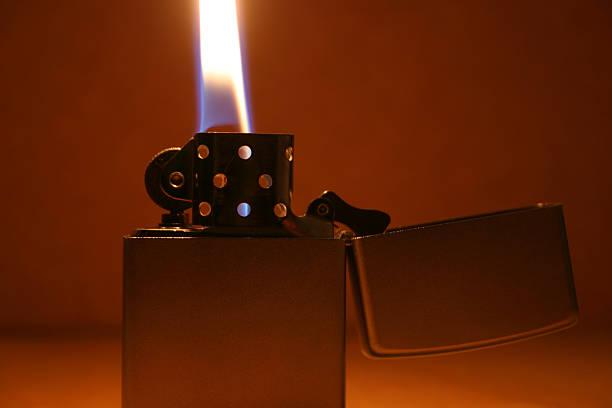Fire: (187, 0, 262, 129)
